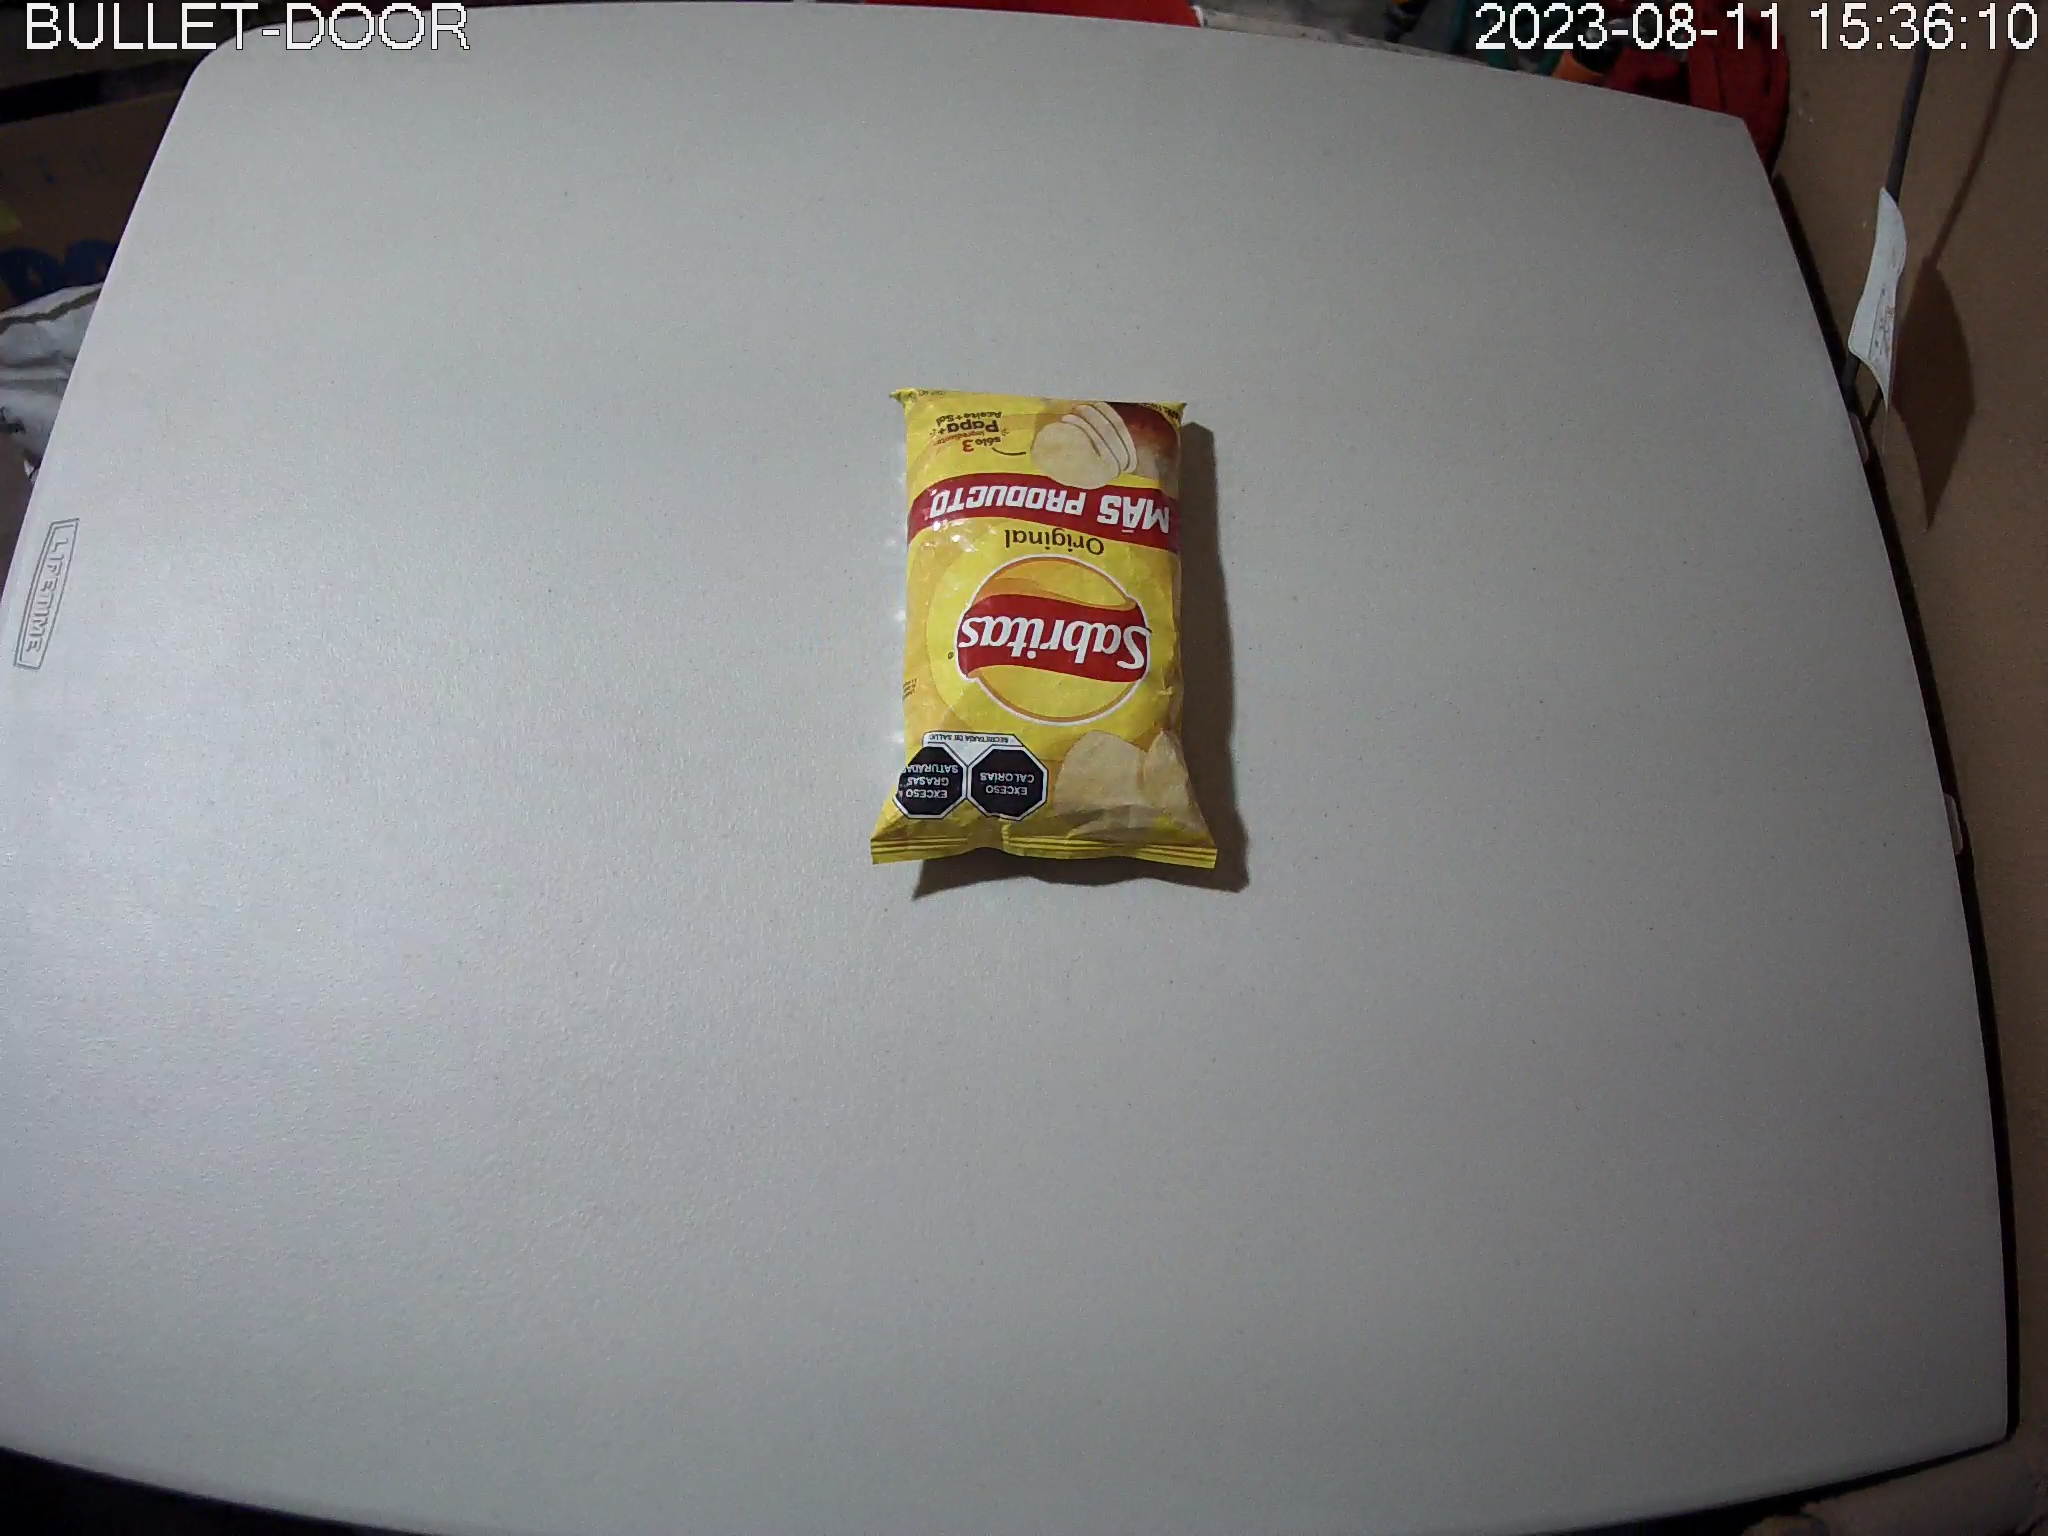Sabritas_45_F: (869, 381, 1222, 871)
